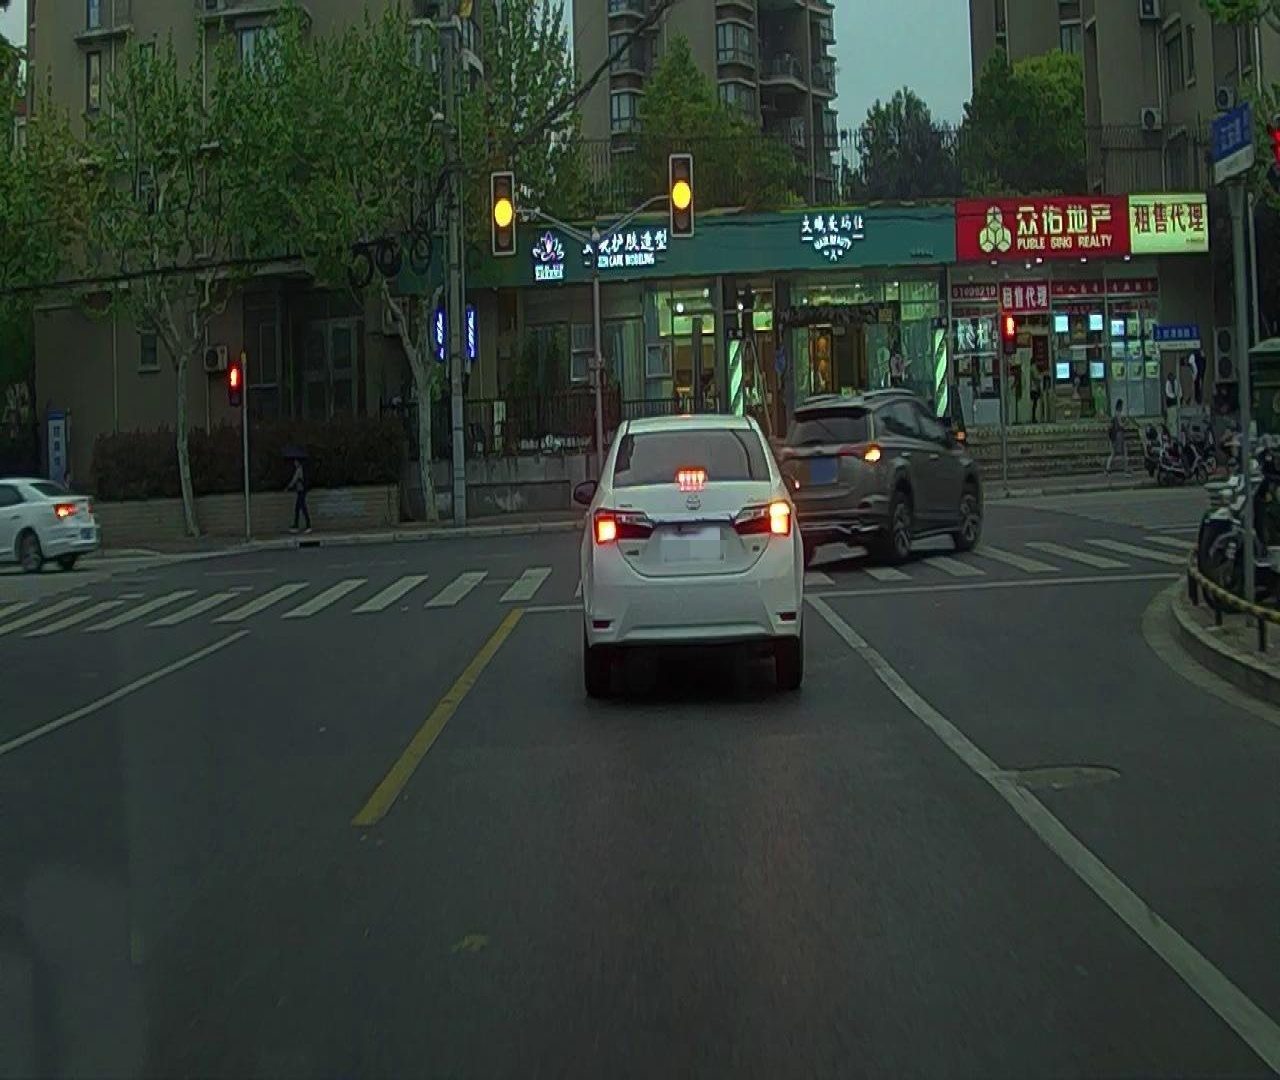yellow: (493, 172, 515, 255), (671, 156, 693, 235)
